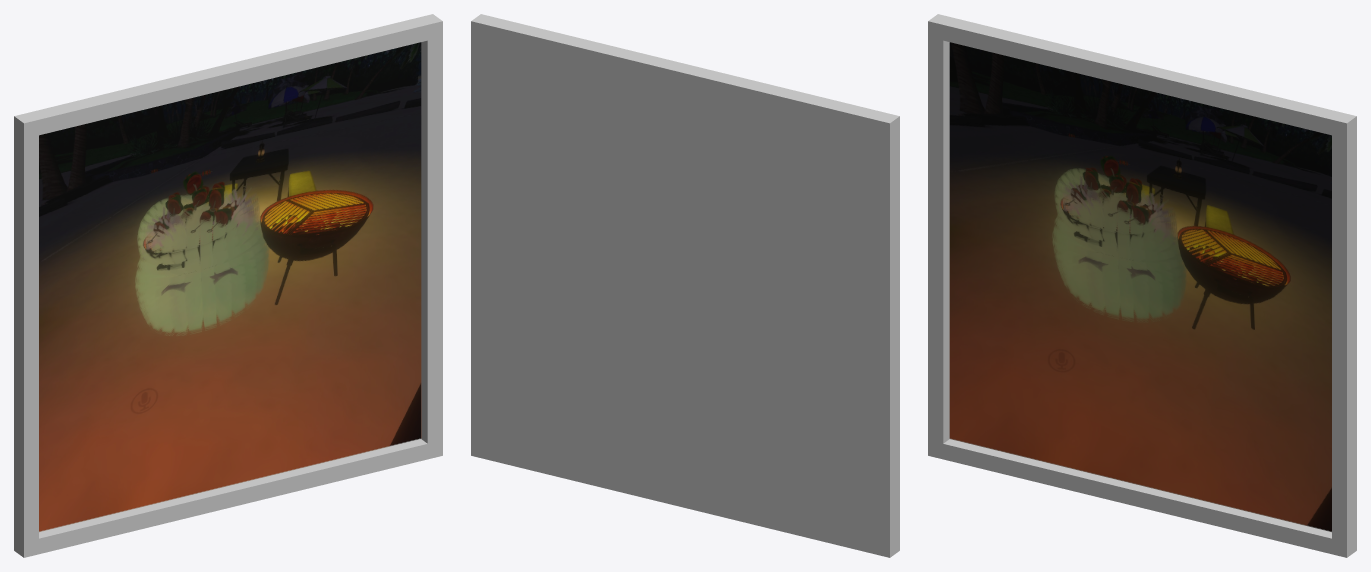
Rendered from photo08.fbx.
3 views of the same model, side by side, from view 1: azimuth 30°, elevation 25°; view 2: azimuth 150°, elevation 25°; view 3: azimuth 330°, elevation 25° (orthographic).
Parts seen in each view (by area): view 1: Plane.007; view 2: Plane.007; view 3: Plane.007.
Part boxes in pixels (left/top/right/bottom): Plane.007: left=14, top=14, right=442, bottom=557; Plane.007: left=471, top=14, right=899, bottom=557; Plane.007: left=928, top=14, right=1356, bottom=557.
Size of the model in its own units: 77.3 by 76.64 by 3.15.
2 materials, 1 textured.
